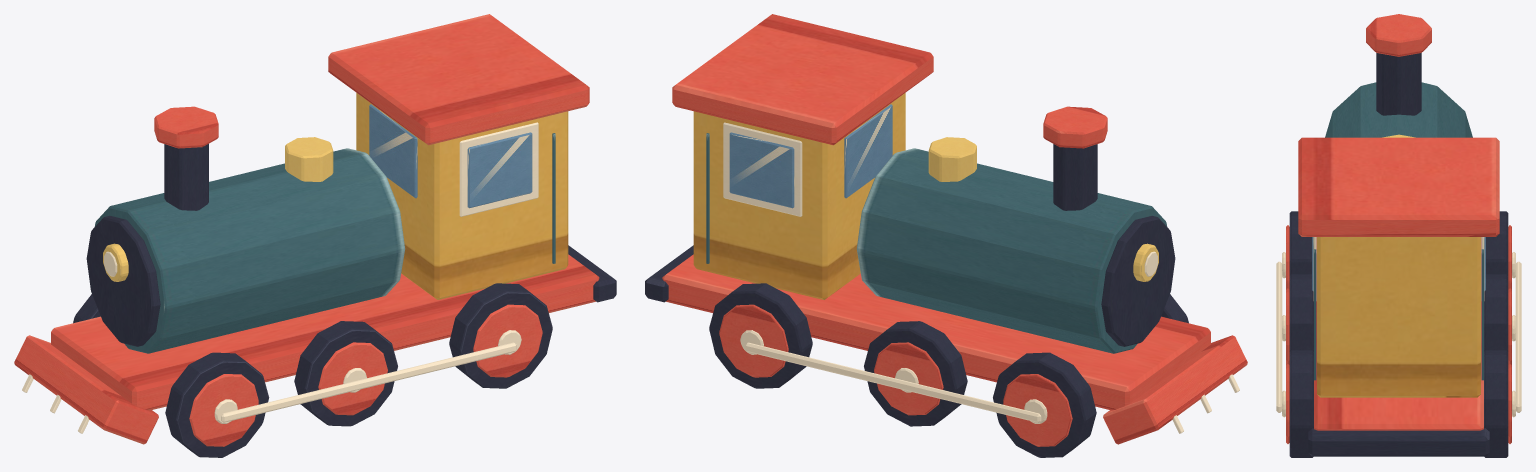
Rendered from train.glb.
The picture shows the model from 3 angles, left to right: view 1: azimuth 30°, elevation 25°; view 2: azimuth 150°, elevation 25°; view 3: azimuth 270°, elevation 25°; orthographic projection.
Visible parts, largest first — view 1: round_boiler, overhanging_cab_roof, cab, chassis, front_smokebox, cowcatcher, driving_wheel_-1_0, driving_wheel_-1_2, driving_wheel_-1_1, cab_window, painted_wheel_-1_0, painted_wheel_-1_2 (+8 smaller); view 2: round_boiler, overhanging_cab_roof, cab, chassis, front_smokebox, cowcatcher, driving_wheel_1_0, driving_wheel_1_2, driving_wheel_1_1, cab_window.001, painted_wheel_1_0, painted_wheel_1_2 (+8 smaller); view 3: cab, overhanging_cab_roof, chassis, round_boiler, rear_buffer, smokestack, driving_wheel_1_2, driving_wheel_-1_2, chimney_rim, driving_wheel_1_1, driving_wheel_-1_1, driving_wheel_1_0 (+9 smaller).
Boxes of the visible parts, x1,y1,x2,y2 form: round_boiler: (94, 148, 405, 353); overhanging_cab_roof: (328, 14, 589, 145); cab: (356, 93, 568, 299); chassis: (51, 254, 599, 410); front_smokebox: (86, 215, 160, 346); cowcatcher: (14, 335, 158, 444); driving_wheel_-1_0: (165, 352, 269, 457); driving_wheel_-1_2: (449, 283, 552, 388); driving_wheel_-1_1: (294, 321, 397, 426); cab_window: (467, 132, 532, 208); painted_wheel_-1_0: (189, 374, 258, 446); painted_wheel_-1_2: (473, 304, 542, 377); round_boiler: (856, 148, 1167, 353); overhanging_cab_roof: (672, 14, 933, 145); cab: (693, 93, 905, 299); chassis: (662, 254, 1210, 410); front_smokebox: (1101, 215, 1175, 346); cowcatcher: (1103, 335, 1247, 444); driving_wheel_1_0: (993, 352, 1096, 457); driving_wheel_1_2: (709, 283, 812, 388); driving_wheel_1_1: (864, 321, 967, 426); cab_window.001: (729, 132, 794, 208); painted_wheel_1_0: (1003, 374, 1072, 446); painted_wheel_1_2: (719, 304, 788, 377); cab: (1317, 237, 1480, 397); overhanging_cab_roof: (1298, 137, 1499, 236); chassis: (1314, 237, 1483, 430); round_boiler: (1325, 82, 1472, 137); rear_buffer: (1308, 428, 1489, 456); smokestack: (1376, 53, 1421, 115); driving_wheel_1_2: (1484, 350, 1508, 457); driving_wheel_-1_2: (1289, 350, 1313, 457); chimney_rim: (1366, 14, 1431, 56); driving_wheel_1_1: (1484, 274, 1508, 351); driving_wheel_-1_1: (1289, 274, 1313, 351); driving_wheel_1_0: (1486, 211, 1508, 275).
Size of the model in its own units: 3.24 by 1.75 by 1.31.
1 material, 1 textured.
